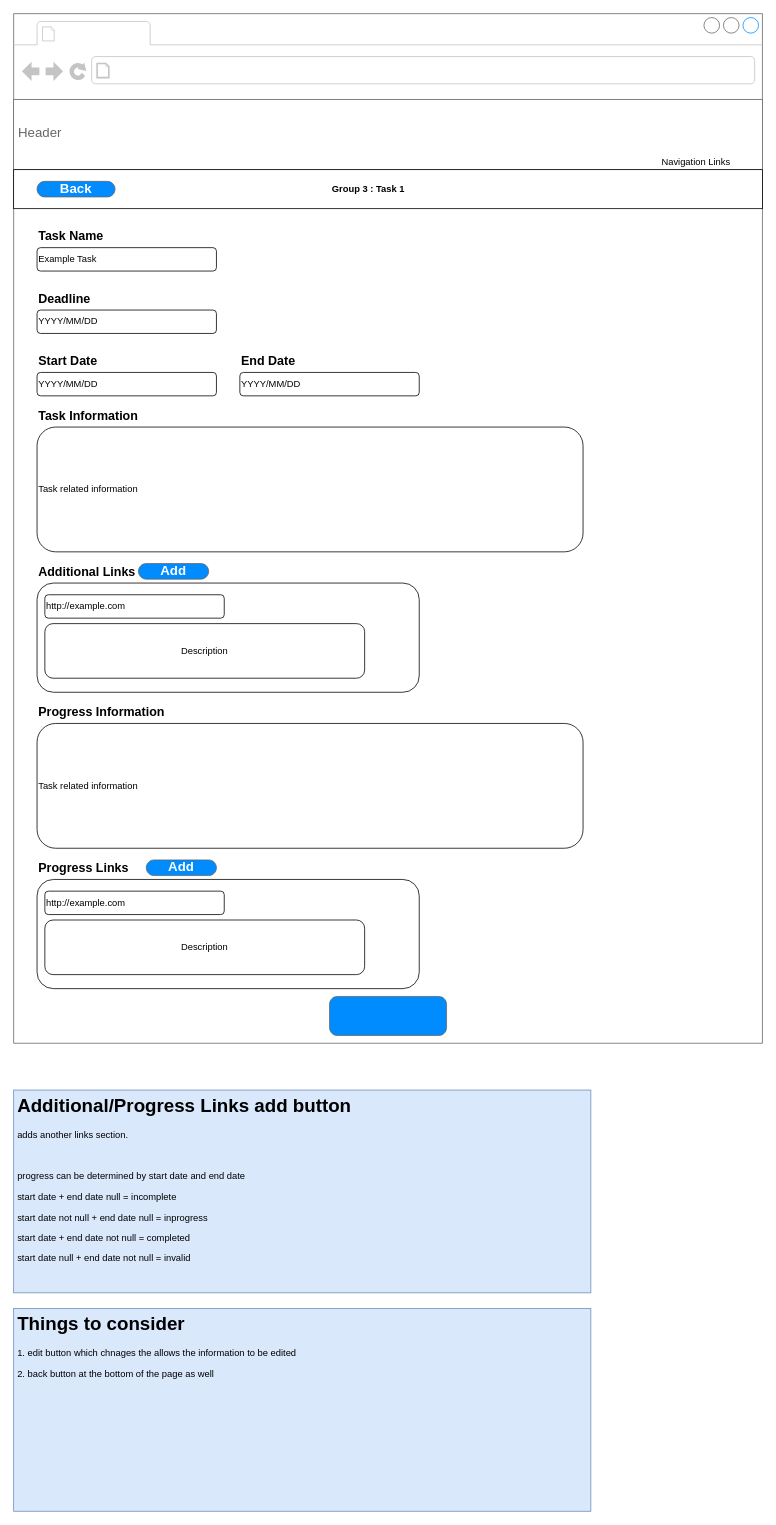
Some shapes in this 776 by 1525 pixel diagram are drawn without their labels. Here are the shapes that lost their labels. From the top down, the centre of each, then its label:
the point at 103,32: Page 1
the point at 227,70: https://www.example.com/tasks?taskId=1
the point at 388,1015: Update
